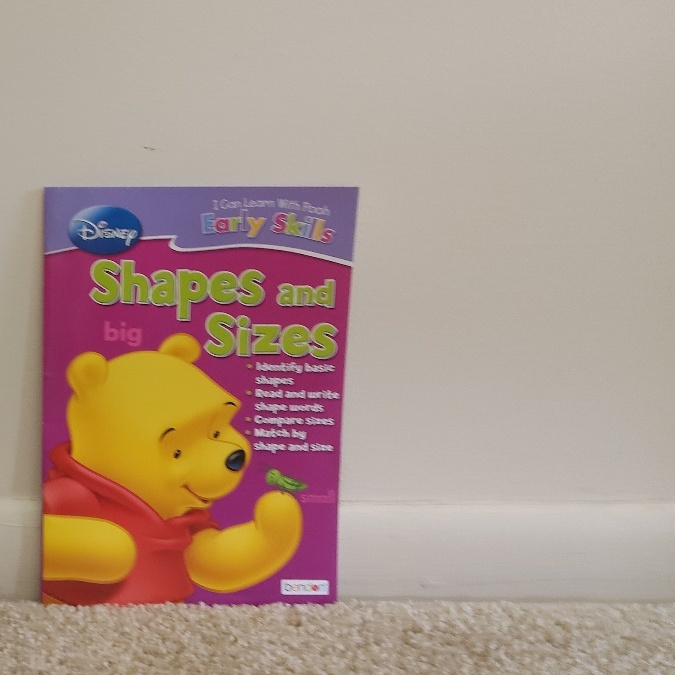book: (42, 188, 335, 605)
